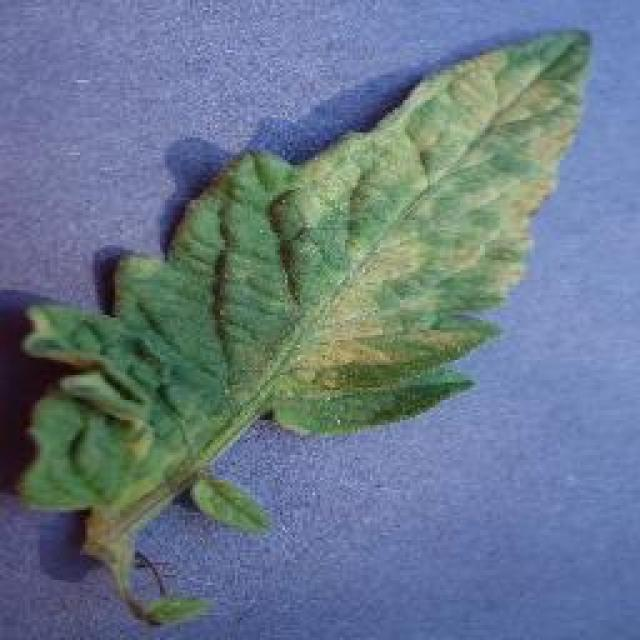leaf mold: (19, 30, 597, 543)
